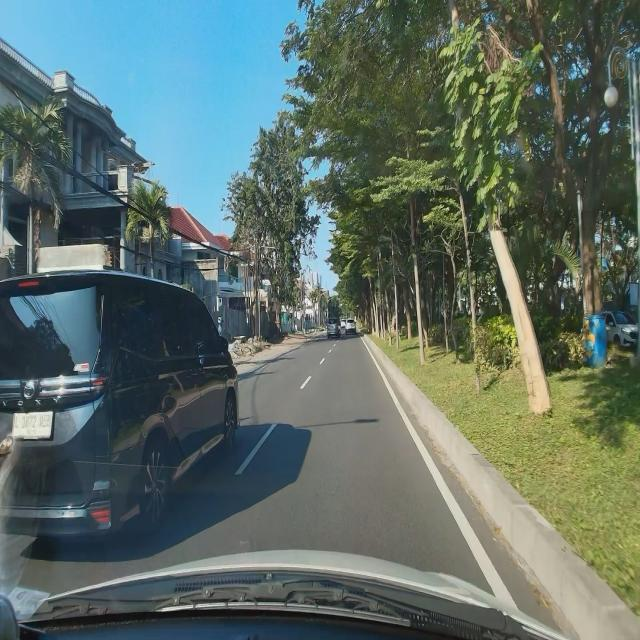car: (0, 264, 242, 552)
license-plate: (10, 409, 54, 442)
